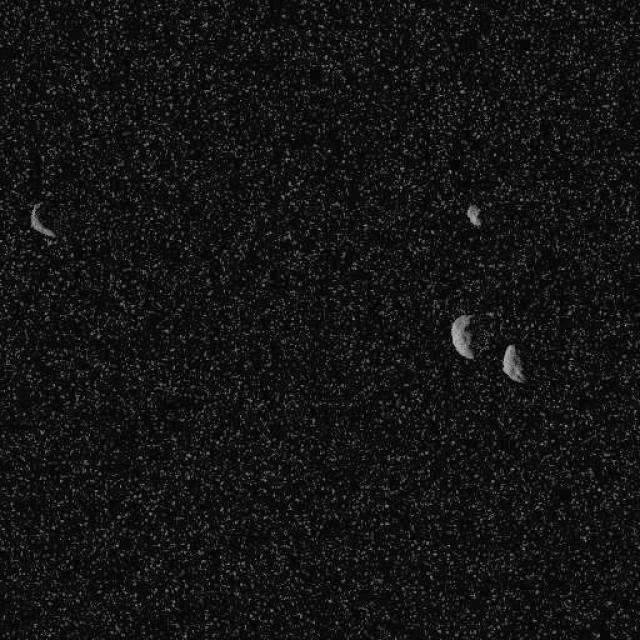D2: (28, 200, 58, 239), (450, 312, 475, 358), (500, 342, 528, 383), (465, 202, 483, 228)
